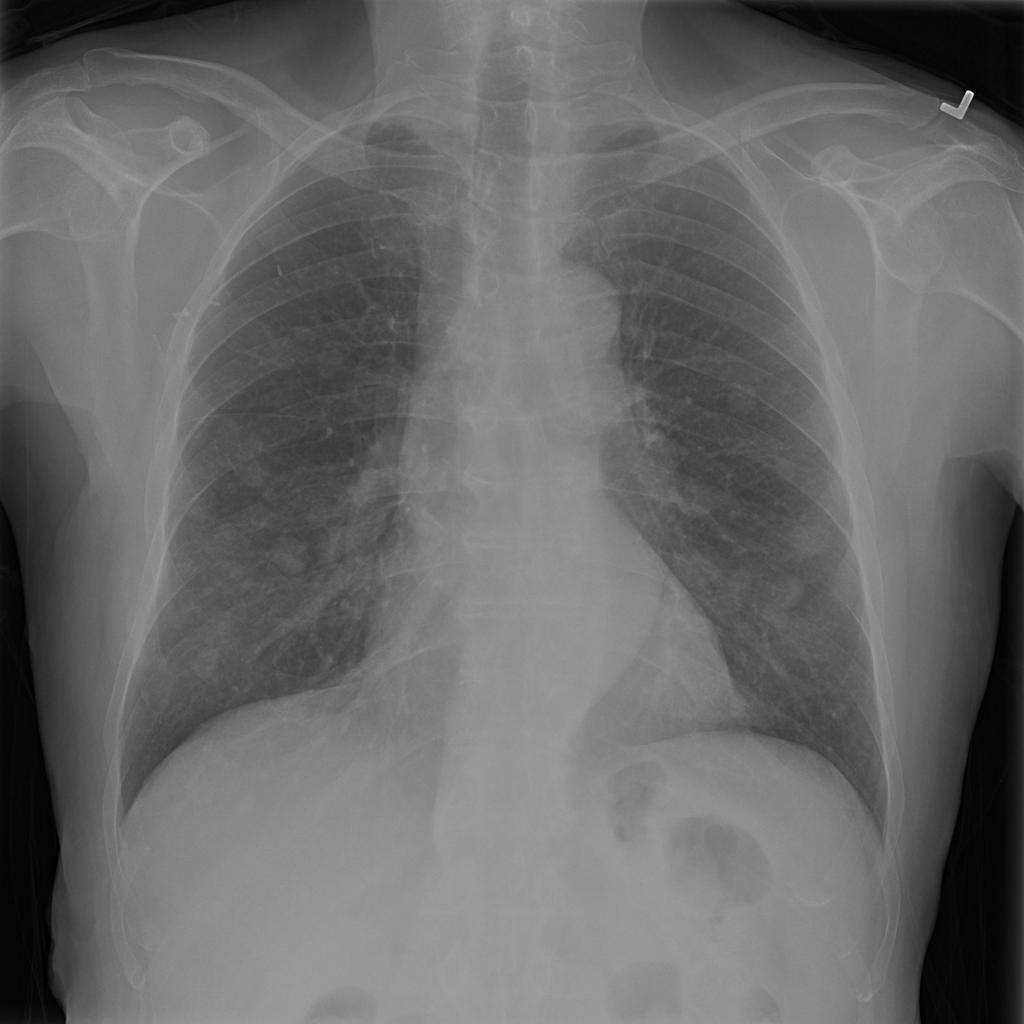nodule: (775, 507, 842, 574), (263, 528, 319, 578), (305, 336, 357, 388), (760, 569, 811, 622), (184, 636, 235, 687), (232, 446, 282, 497), (718, 677, 767, 729), (721, 374, 771, 424), (763, 440, 814, 488), (175, 481, 224, 530), (823, 689, 858, 729)
